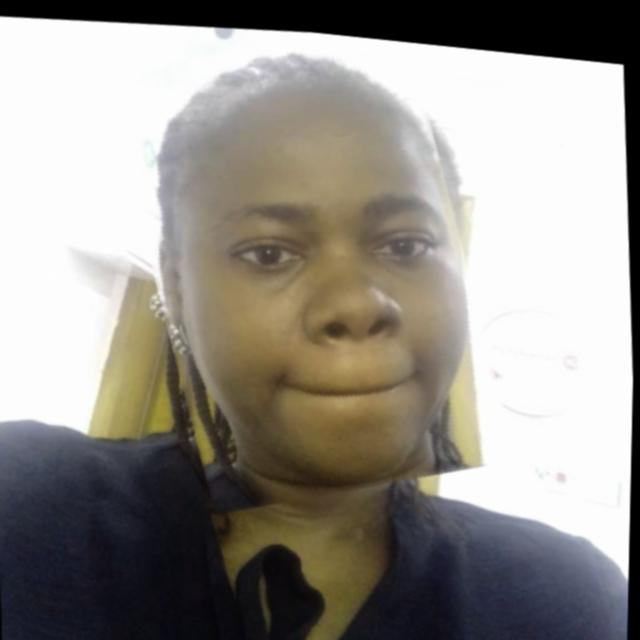sad: (116, 10, 505, 521)
